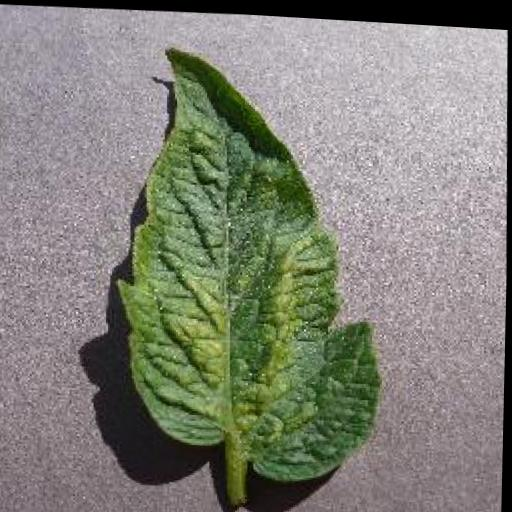Spider Mites: (111, 36, 389, 488)
